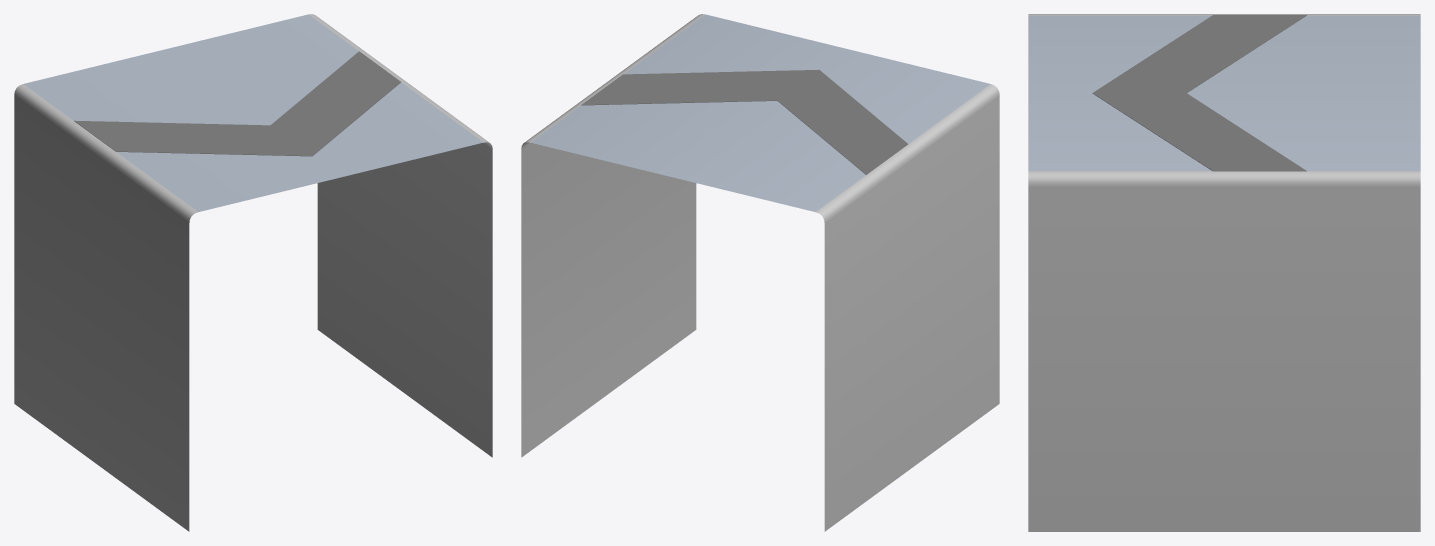
File: Platform (1) NEw.fbx
The picture shows the model from 3 angles, left to right: view 1: azimuth 30°, elevation 25°; view 2: azimuth 150°, elevation 25°; view 3: azimuth 270°, elevation 25°; orthographic projection. The views are drawn at different scales.
Visible parts, largest first — view 1: Platform; view 2: Platform; view 3: Platform.
Boxes of the visible parts, box(x1,y1,x2,y2) form: Platform: box(14, 14, 492, 531); Platform: box(521, 14, 999, 531); Platform: box(1028, 14, 1420, 531).
Bounding box in the file's own units: 500 × 501 × 500.
